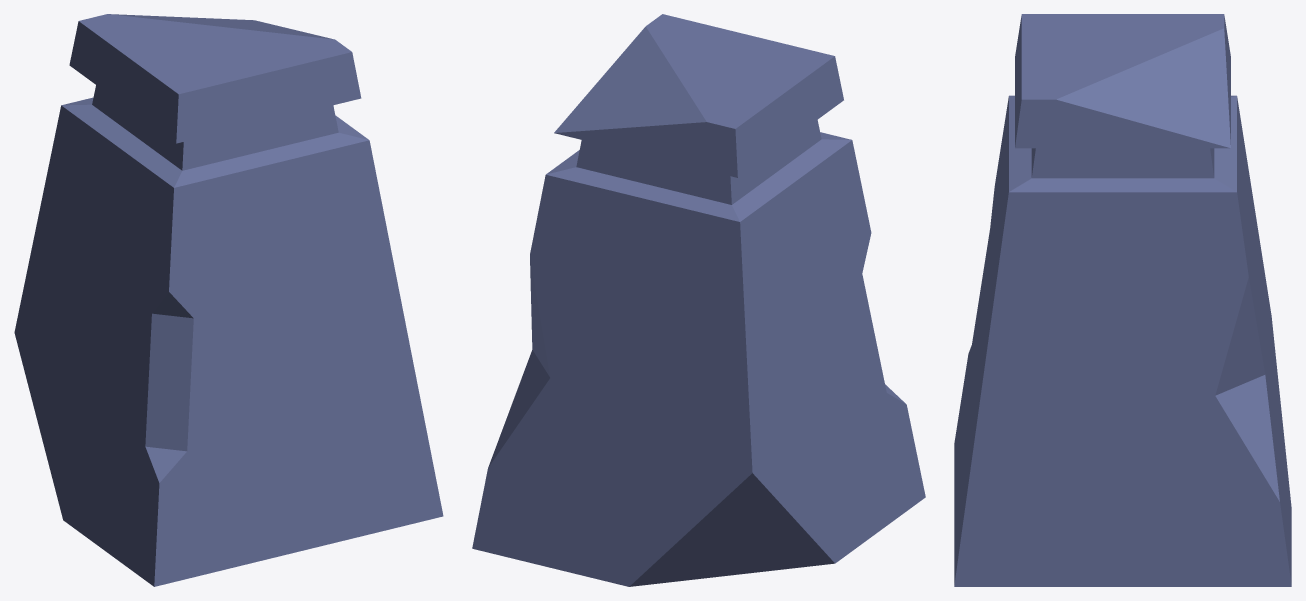
The model's file is column_small_2_3.fbx.
The picture shows the model from 3 angles, left to right: view 1: azimuth 30°, elevation 25°; view 2: azimuth 150°, elevation 25°; view 3: azimuth 270°, elevation 25°; orthographic projection.
Visible parts, largest first — view 1: column_small_2_3; view 2: column_small_2_3; view 3: column_small_2_3.
Boxes of the visible parts, x1=… form: column_small_2_3: x1=14, y1=14, x2=443, y2=586; column_small_2_3: x1=472, y1=14, x2=925, y2=586; column_small_2_3: x1=954, y1=14, x2=1291, y2=586.
Bounding box in the file's own units: 2 × 3 × 2.
